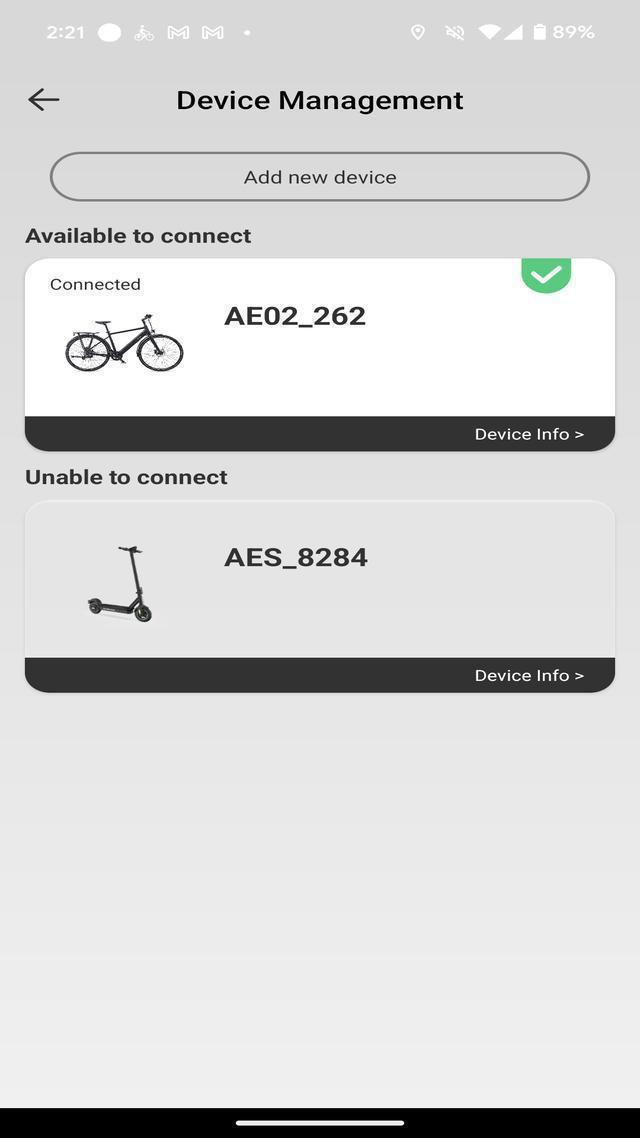ASCII: (476, 22, 504, 43), (504, 22, 528, 44), (532, 20, 548, 43)
Icon: (520, 258, 574, 297), (28, 88, 62, 119), (166, 22, 194, 46), (96, 21, 122, 46), (440, 22, 468, 45), (200, 22, 228, 44), (134, 22, 158, 46), (237, 23, 260, 44), (410, 23, 426, 44)
Image: (64, 534, 168, 634), (58, 310, 189, 383)
Text: (171, 80, 472, 120), (17, 220, 257, 248), (213, 538, 380, 573), (216, 297, 373, 333), (22, 465, 232, 491), (240, 161, 400, 192), (40, 270, 154, 300), (470, 420, 590, 446), (467, 662, 596, 686), (44, 19, 90, 44), (550, 22, 600, 43)
TextButton: (45, 150, 593, 203), (21, 656, 618, 696), (24, 415, 618, 455)
